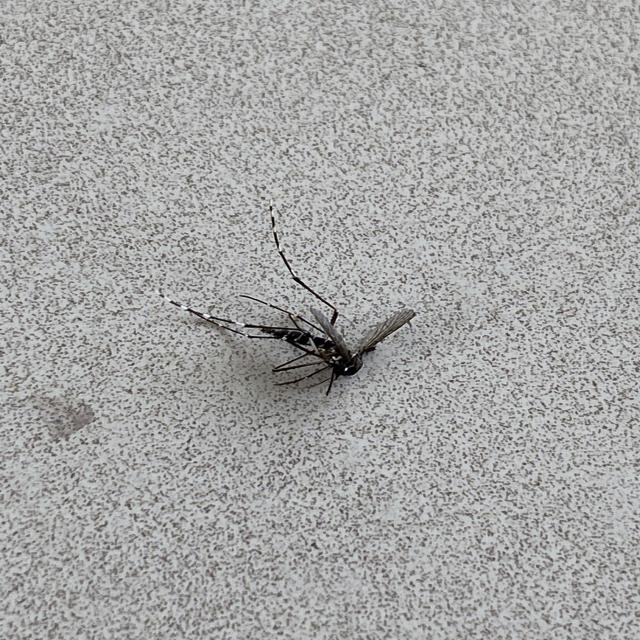albopictus: (162, 196, 420, 400)
